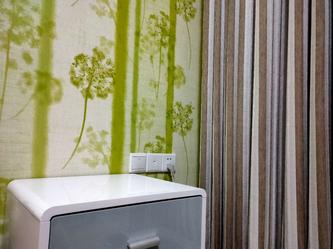switch: (131, 153, 147, 172)
